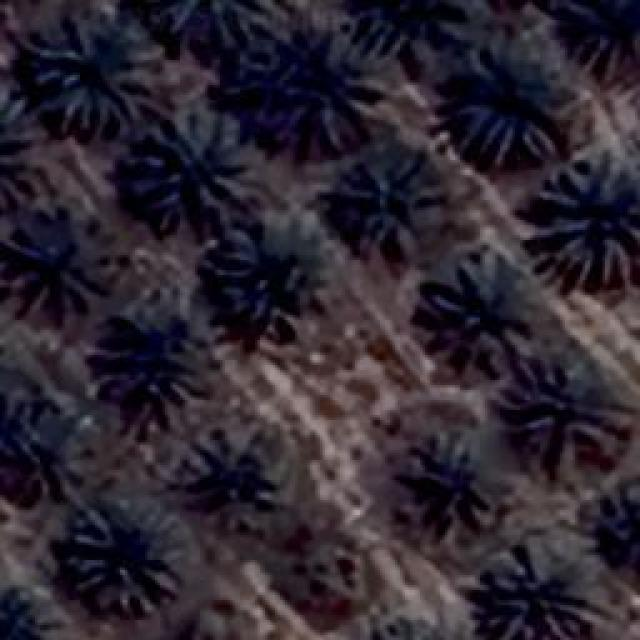PalmTree: (28, 37, 605, 610), (128, 108, 262, 235), (30, 10, 168, 130), (454, 35, 568, 163), (530, 152, 638, 286), (215, 210, 343, 322), (65, 502, 180, 616), (430, 250, 535, 362), (508, 358, 620, 458), (248, 60, 378, 145), (485, 544, 600, 638), (0, 219, 102, 312), (348, 155, 442, 250), (202, 434, 282, 534), (410, 435, 492, 530), (350, 0, 475, 56), (0, 396, 72, 493), (100, 305, 175, 390), (146, 0, 277, 45), (0, 88, 38, 216), (600, 486, 640, 572), (356, 614, 474, 640), (164, 614, 256, 640), (358, 622, 474, 640), (157, 622, 255, 640)
